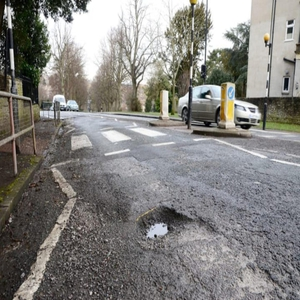pothole: (131, 204, 189, 246)
